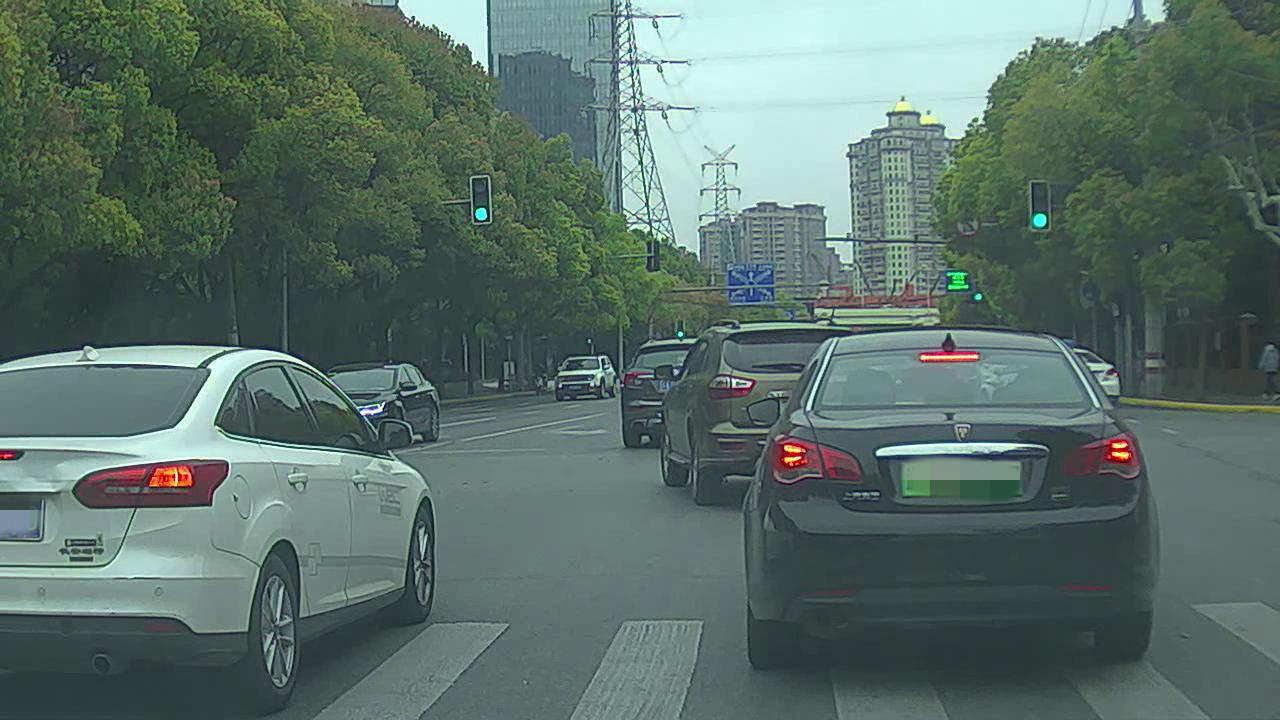traffic_light: (1025, 179, 1053, 235), (472, 174, 494, 224)
